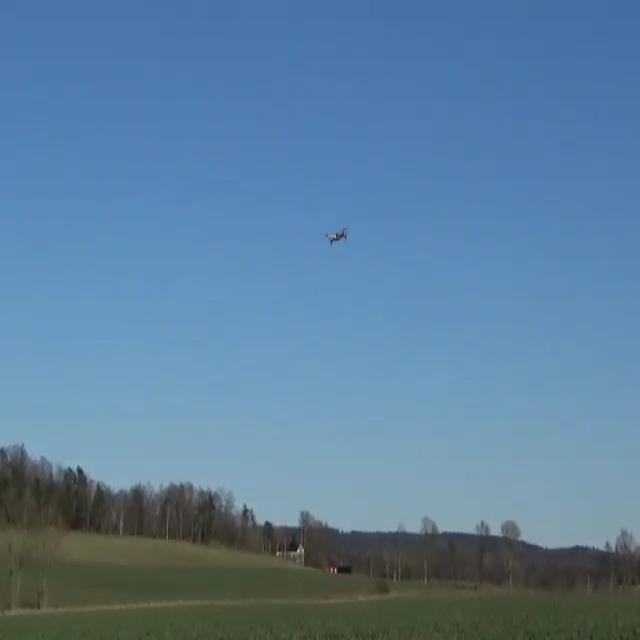Drone: (312, 218, 360, 250)
